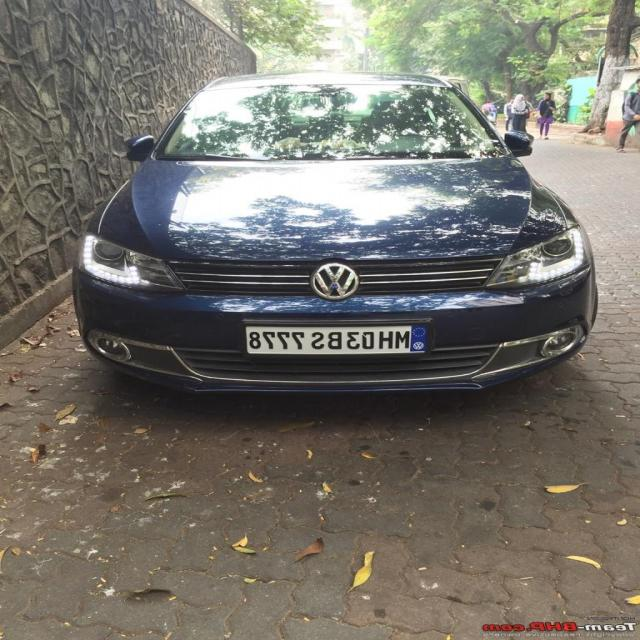license_plate: (234, 316, 436, 366)
